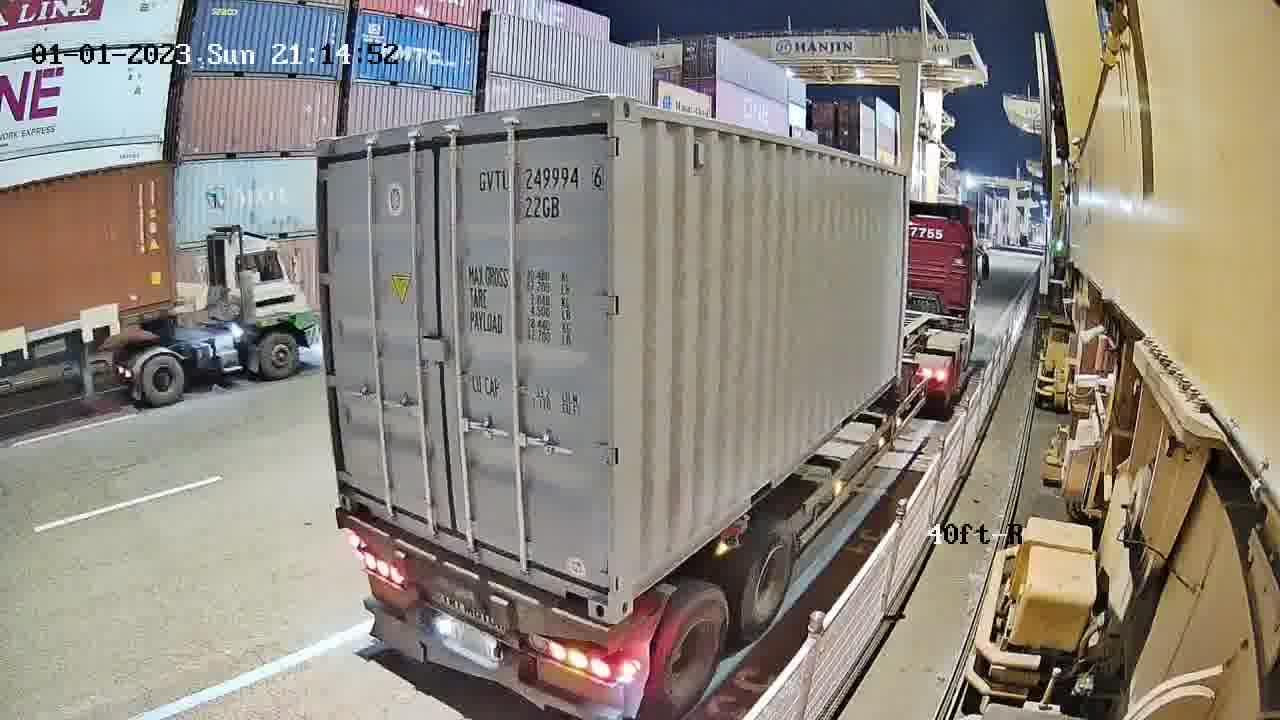Chassis: (340, 512, 612, 651)
Hole_L: (610, 553, 647, 623), (336, 473, 374, 519)
Hole_R: (569, 564, 614, 623)
Tire: (657, 587, 733, 711), (740, 528, 799, 630)
